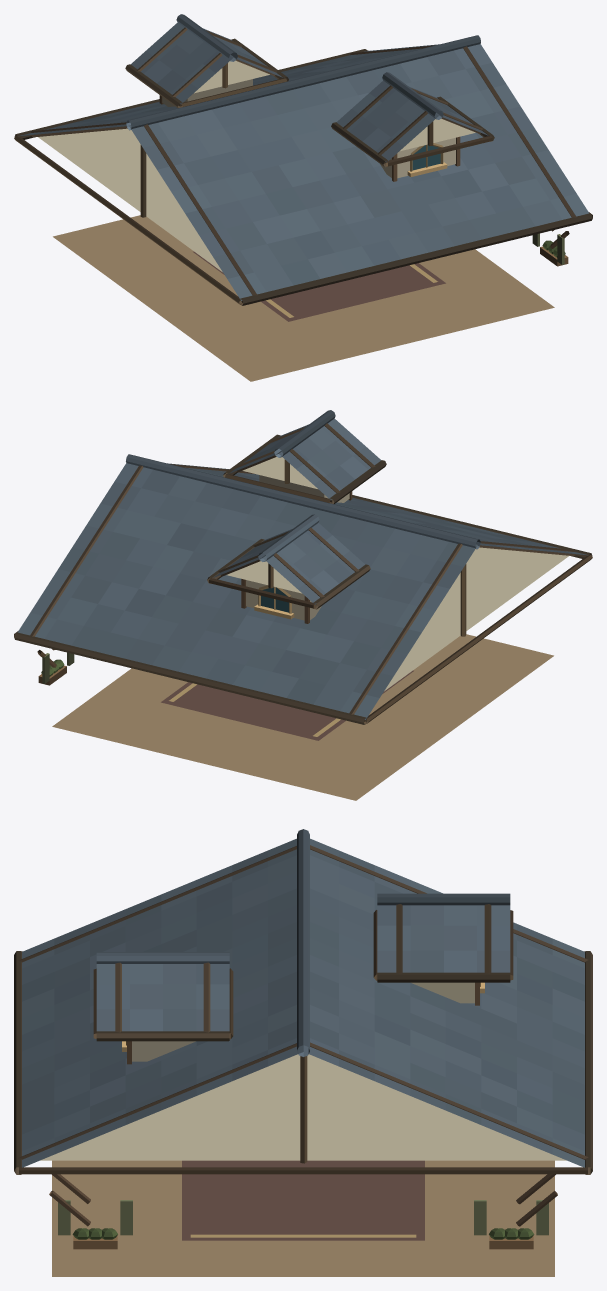
The picture shows the model from 3 angles, top to bottom: view 1: azimuth 30°, elevation 25°; view 2: azimuth 150°, elevation 25°; view 3: azimuth 270°, elevation 25°; orthographic projection. The views are drawn at different scales.
Parts seen in each view (by area): view 1: 43920fc5291a0182db91a0b8239996d652f1ff5221d9f79c611306649956; view 2: 43920fc5291a0182db91a0b8239996d652f1ff5221d9f79c611306649956; view 3: 43920fc5291a0182db91a0b8239996d652f1ff5221d9f79c611306649956.
Boxes of the visible parts, <box> form: 43920fc5291a0182db91a0b8239996d652f1ff5221d9f79c611306649956: <box>14,14,592,381</box>; 43920fc5291a0182db91a0b8239996d652f1ff5221d9f79c611306649956: <box>14,410,592,800</box>; 43920fc5291a0182db91a0b8239996d652f1ff5221d9f79c611306649956: <box>14,829,592,1276</box>.
Size of the model in its own units: 8.97 by 5.04 by 10.02.
6 materials, 1 textured.
